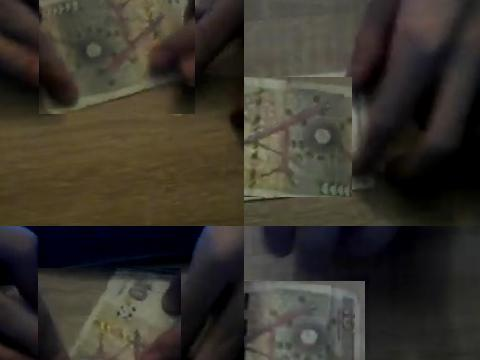10leva: (39, 0, 191, 114), (244, 81, 352, 197), (70, 268, 174, 360), (244, 281, 365, 360)
